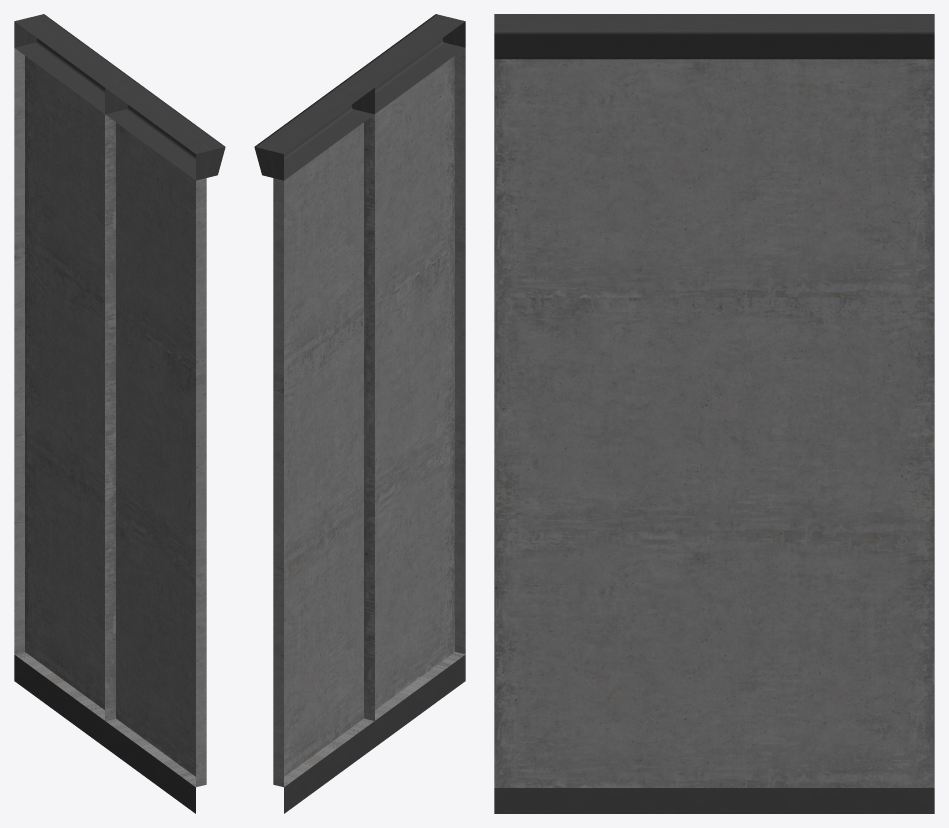
Rendered from SM_dev_wall_200_x_400.fbx.
The picture shows the model from 3 angles, left to right: view 1: azimuth 30°, elevation 25°; view 2: azimuth 150°, elevation 25°; view 3: azimuth 270°, elevation 25°; orthographic projection. The views are drawn at different scales.
Parts seen in each view (by area): view 1: polySurface591, polySurface600, polySurface595, polySurface601; view 2: polySurface600, polySurface591, polySurface595, polySurface601; view 3: polySurface591, polySurface600, polySurface595, polySurface601.
Part boxes in pixels (<box>): polySurface591: <box>14,48,115,720</box>; polySurface600: <box>105,114,206,787</box>; polySurface595: <box>105,80,225,813</box>; polySurface601: <box>14,14,134,746</box>; polySurface600: <box>364,48,465,720</box>; polySurface591: <box>273,114,374,787</box>; polySurface595: <box>345,14,465,747</box>; polySurface601: <box>254,80,374,813</box>; polySurface591: <box>714,59,934,787</box>; polySurface600: <box>494,59,714,787</box>; polySurface595: <box>494,14,714,813</box>; polySurface601: <box>714,14,934,813</box>.
Bounding box in the file's own units: 0.1891 × 4 × 1.99.
